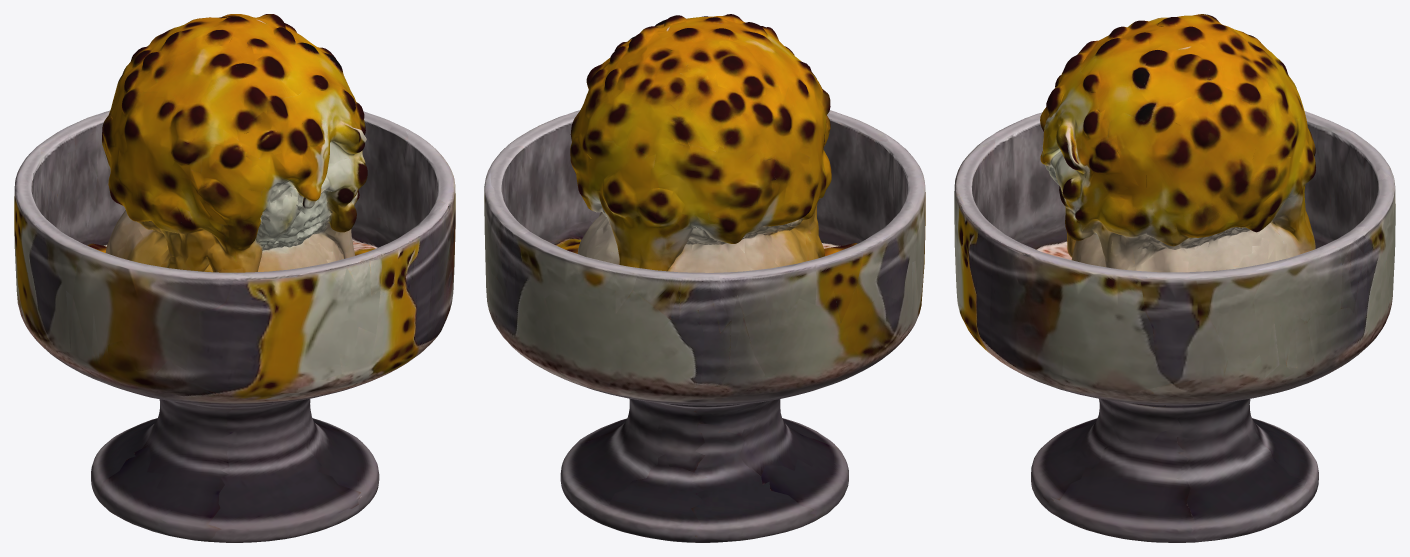
File: pandan-custard.glb
3 views of the same model, side by side, from view 1: azimuth 30°, elevation 25°; view 2: azimuth 150°, elevation 25°; view 3: azimuth 270°, elevation 25° (orthographic).
Parts seen in each view (by area): view 1: wayan_dish; view 2: wayan_dish; view 3: wayan_dish.
Part boxes in pixels (x1,y1,x2,y2): wayan_dish: (14, 14, 455, 542); wayan_dish: (484, 14, 925, 542); wayan_dish: (954, 14, 1395, 542).
Size of the model in its own units: 0.1312 by 0.15 by 0.1311.
Materials: 1 (1 with a texture image).
